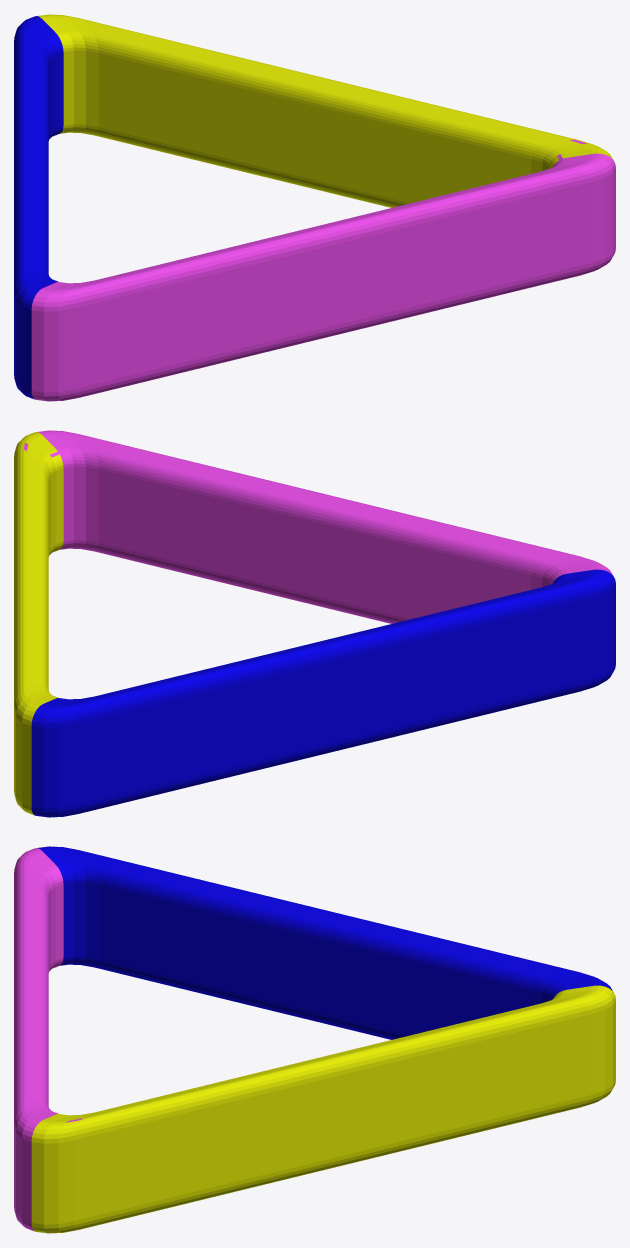
The model's file is Color Chart.fbx.
3 views of the same model, one above another, from view 1: azimuth 30°, elevation 25°; view 2: azimuth 150°, elevation 25°; view 3: azimuth 270°, elevation 25° (orthographic).
Visible parts, largest first — view 1: Circle; view 2: Circle; view 3: Circle.
Part boxes in pixels (left/top/right/bottom): Circle: left=14, top=14, right=615, bottom=401; Circle: left=14, top=430, right=615, bottom=817; Circle: left=14, top=846, right=615, bottom=1233.
Size of the model in its own units: 241 by 42.43 by 213.
